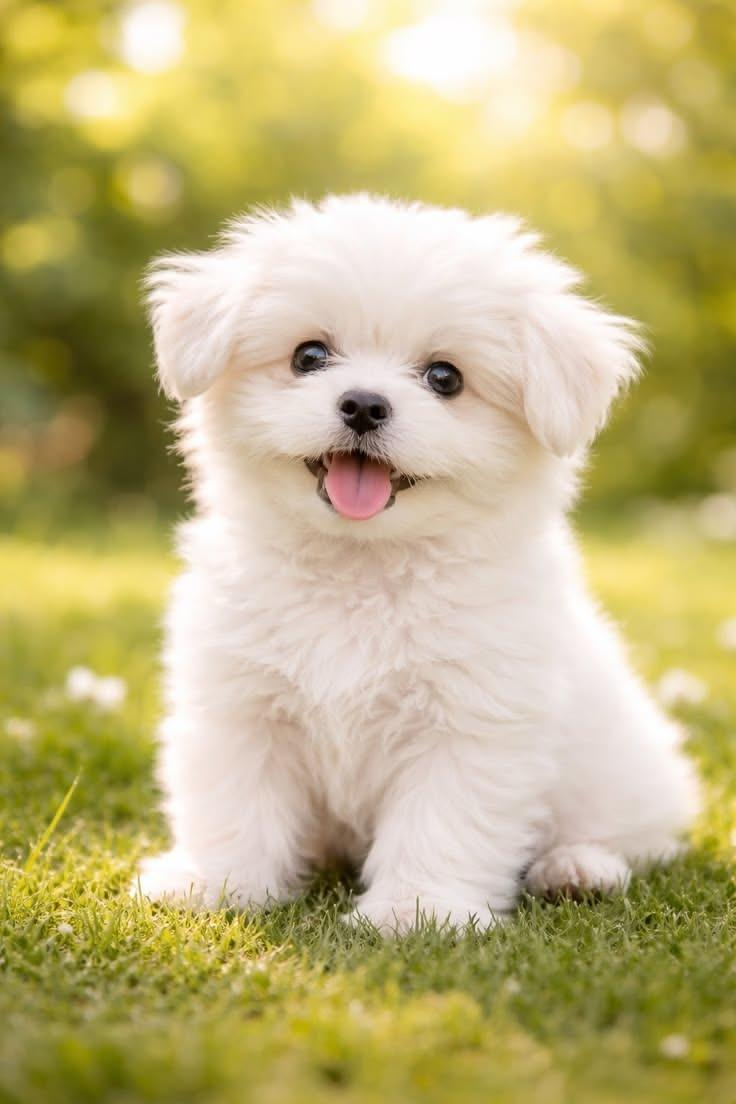puppy-dog: (135, 190, 705, 944)
